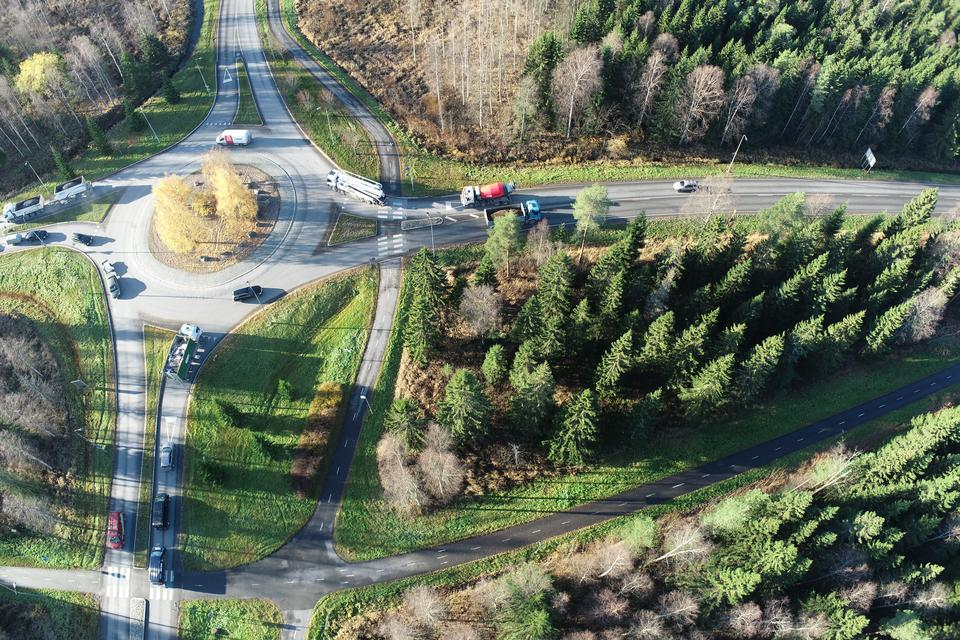intersection: (44, 539, 224, 627), (361, 160, 435, 292)
roundabout: (54, 79, 349, 346)
